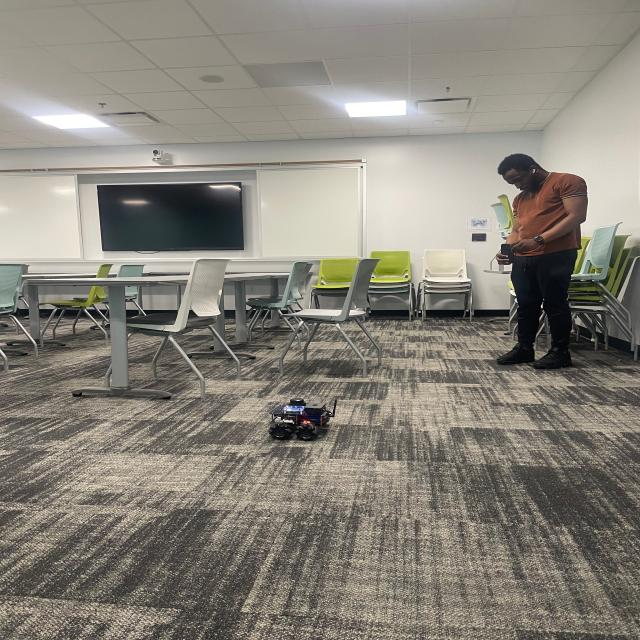ArduinoCar: (269, 394, 338, 442)
